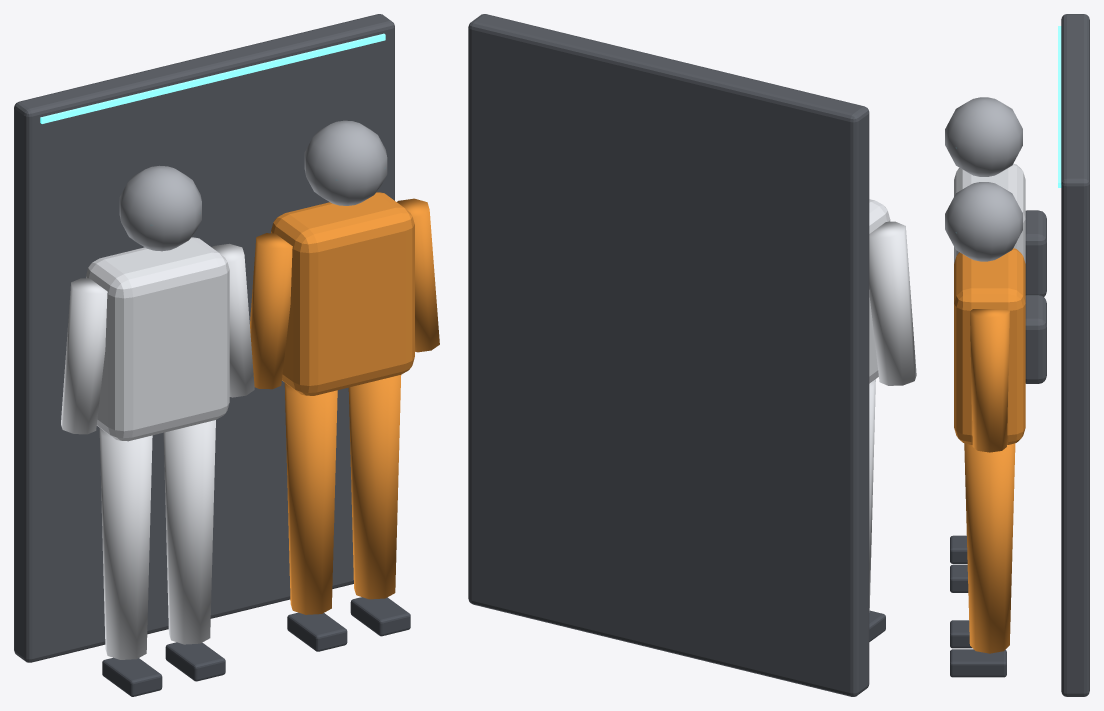
The model's file is suit_rack_eva_rack.glb.
3 views of the same model, side by side, from view 1: azimuth 30°, elevation 25°; view 2: azimuth 150°, elevation 25°; view 3: azimuth 270°, elevation 25° (orthographic). The views are drawn at different scales.
Parts seen in each view (by area): view 1: GD_suit_rack_eva_rack__m0, GD_suit_rack_eva_rack__m1, GD_suit_rack_eva_rack__m2, GD_suit_rack_eva_rack__m3, GD_suit_rack_eva_rack__m5, GD_suit_rack_eva_rack__m6; view 2: GD_suit_rack_eva_rack__m0, GD_suit_rack_eva_rack__m1; view 3: GD_suit_rack_eva_rack__m0, GD_suit_rack_eva_rack__m2, GD_suit_rack_eva_rack__m3, GD_suit_rack_eva_rack__m5, GD_suit_rack_eva_rack__m1, GD_suit_rack_eva_rack__m6.
Boxes of the visible parts, x1,y1,x2,y2 form: GD_suit_rack_eva_rack__m0: (14,14,394,662); GD_suit_rack_eva_rack__m1: (61,237,254,659); GD_suit_rack_eva_rack__m2: (250,192,439,614); GD_suit_rack_eva_rack__m3: (119,120,387,251); GD_suit_rack_eva_rack__m5: (102,597,410,696); GD_suit_rack_eva_rack__m6: (40,33,385,123); GD_suit_rack_eva_rack__m0: (468,14,869,696); GD_suit_rack_eva_rack__m1: (869,199,916,612); GD_suit_rack_eva_rack__m0: (1025,14,1089,696); GD_suit_rack_eva_rack__m2: (954,248,1025,653); GD_suit_rack_eva_rack__m3: (945,97,1022,261); GD_suit_rack_eva_rack__m5: (950,535,1006,677); GD_suit_rack_eva_rack__m1: (954,163,1025,263); GD_suit_rack_eva_rack__m6: (1058,26,1061,187).
Size of the model in its own units: 1.42 by 2 by 0.5065.
